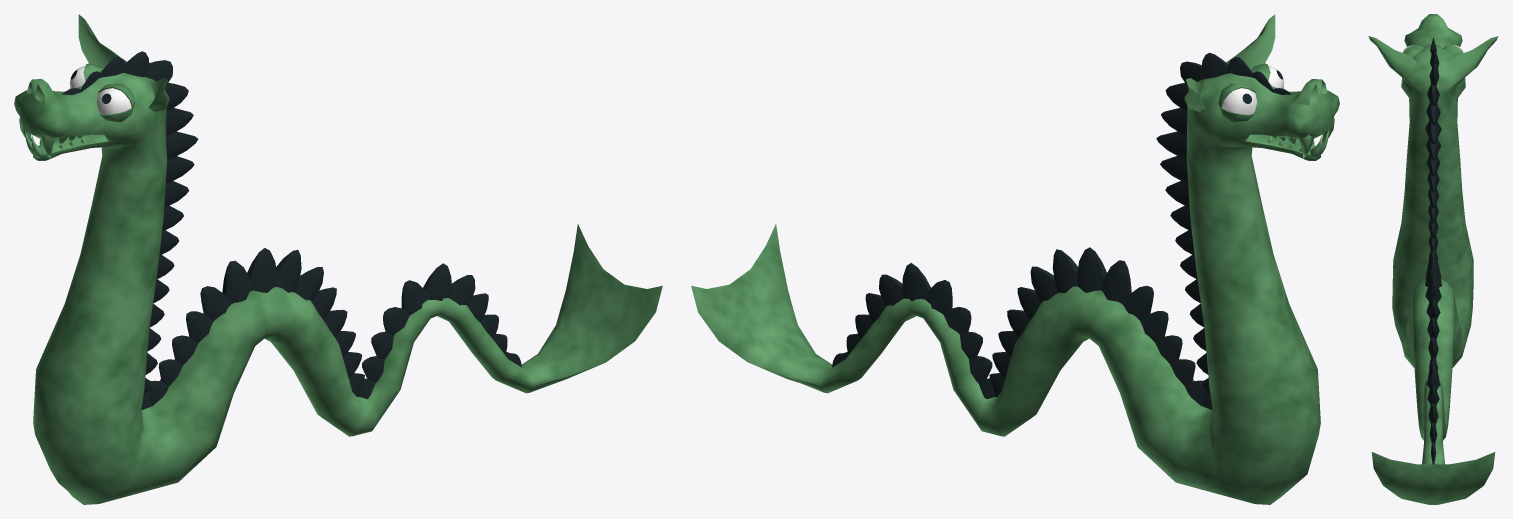
Rendered from FI_048_049_green_dragon.glb.
3 renders of one model, left to right at view 1: azimuth 30°, elevation 25°; view 2: azimuth 150°, elevation 25°; view 3: azimuth 270°, elevation 25°, orthographic. The views are drawn at different scales.
Visible parts, largest first — view 1: green_dragon; view 2: green_dragon; view 3: green_dragon.
Boxes of the visible parts, <box> form: green_dragon: <box>14,14,662,504</box>; green_dragon: <box>691,14,1339,504</box>; green_dragon: <box>1368,14,1498,504</box>.
Size of the model in its own units: 2.12 by 1.51 by 0.5551.
Materials: 4 (1 with a texture image).
